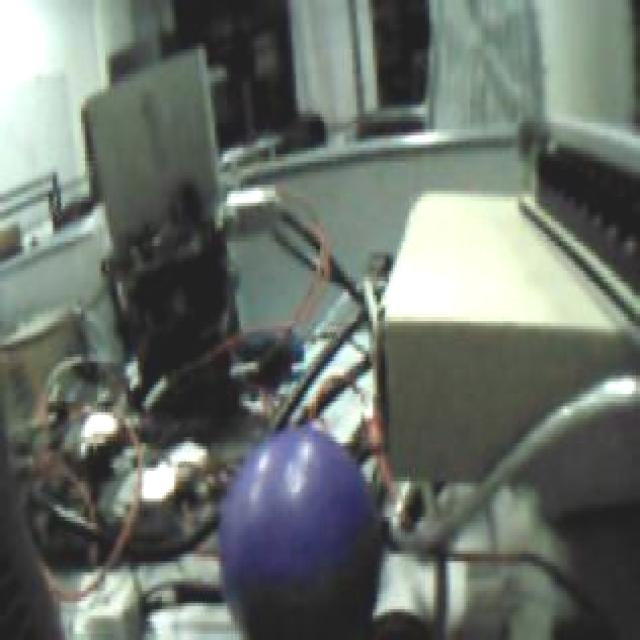BallPurple: (218, 427, 380, 640)
